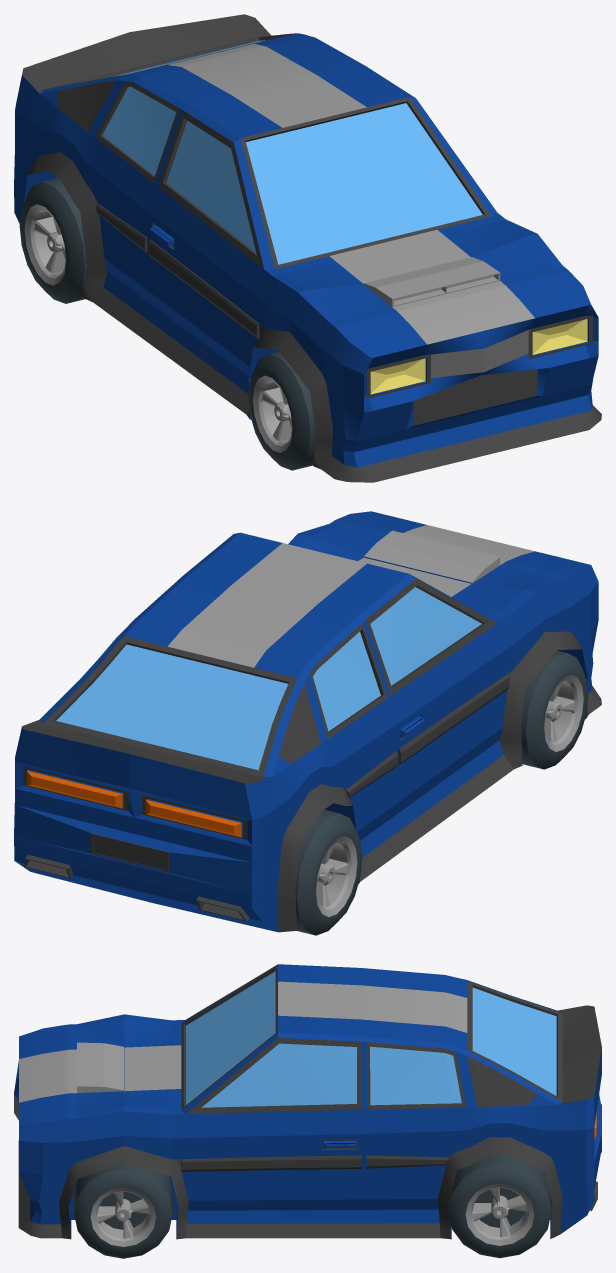
File: MuscleCar.fbx
The picture shows the model from 3 angles, top to bottom: view 1: azimuth 30°, elevation 25°; view 2: azimuth 150°, elevation 25°; view 3: azimuth 270°, elevation 25°; orthographic projection. The views are drawn at different scales.
Visible parts, largest first — view 1: Muscle-Car, MuscleCarWheelBackR, MuscleCarWheelFrontR; view 2: Muscle-Car, MuscleCarWheelBackR, MuscleCarWheelFrontR; view 3: Muscle-Car, MuscleCarWheelBackL, MuscleCarWheelFrontL.
Part boxes in pixels (left/top/right/bottom): Muscle-Car: left=14, top=14, right=601, bottom=482; MuscleCarWheelBackR: left=19, top=178, right=87, bottom=303; MuscleCarWheelFrontR: left=248, top=351, right=315, bottom=470; Muscle-Car: left=14, top=511, right=601, bottom=932; MuscleCarWheelBackR: left=295, top=809, right=362, bottom=935; MuscleCarWheelFrontR: left=521, top=650, right=588, bottom=769; Muscle-Car: left=14, top=964, right=601, bottom=1239; MuscleCarWheelBackL: left=448, top=1155, right=551, bottom=1258; MuscleCarWheelFrontL: left=74, top=1163, right=172, bottom=1258.
Size of the model in its own units: 5.53 by 4.48 by 11.66.
